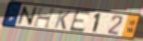1: (91, 12, 103, 34)
2: (106, 15, 124, 37)
E: (68, 10, 93, 34)
H: (32, 7, 58, 30)
K: (53, 9, 72, 31)
N: (16, 5, 39, 27)
